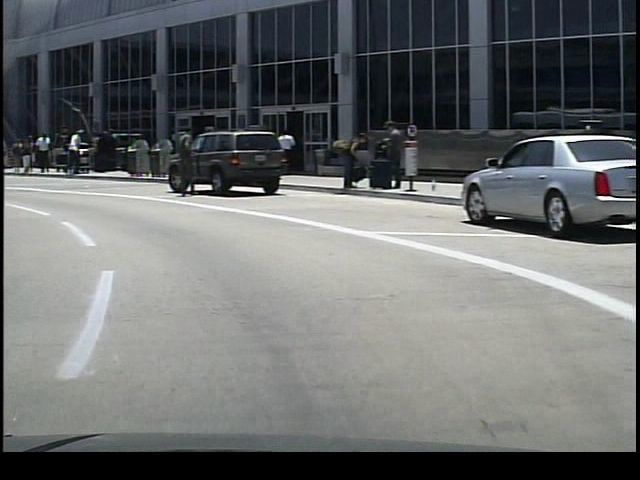person: (362, 117, 404, 192), (166, 116, 195, 203), (332, 126, 363, 192), (267, 119, 296, 183), (56, 125, 85, 177), (31, 129, 50, 178), (12, 135, 31, 180)
